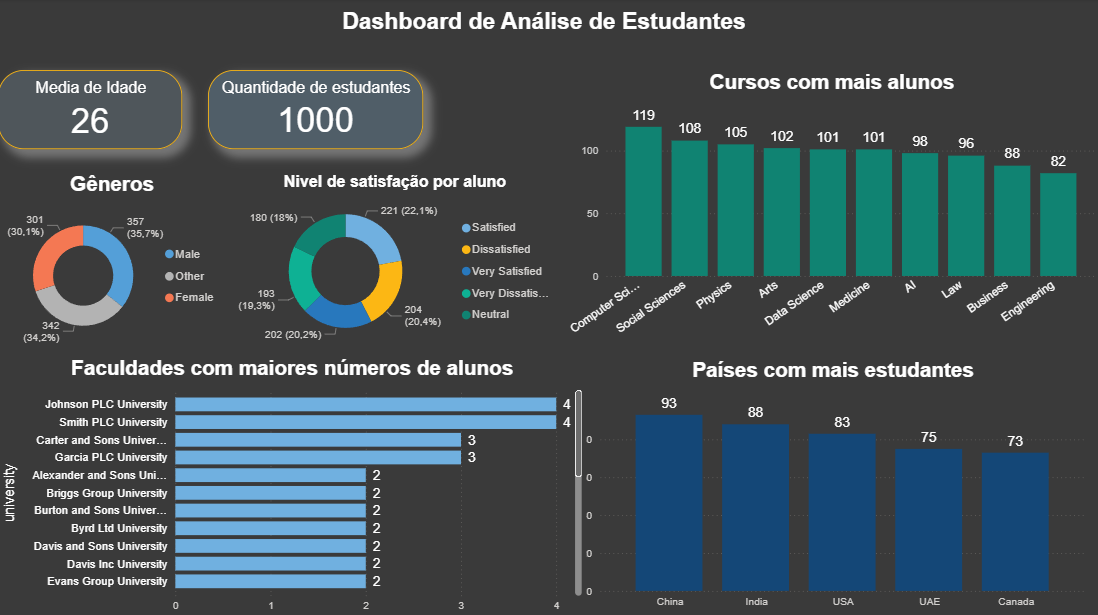

The page's visual inventory and layout, read from the dashboard file:
{"tool":"powerbi","page":{"name":"Página 1","canvas":[1280,720],"ordinal":0},"visuals":[{"type":"card","title":"Media de Idade","fields":{"Values":["students.MediadeIdade"]},"box":[0,82.4,214,92.2],"z":0},{"type":"donutChart","title":"Contagem de Gêneros","fields":{"Category":["students.gender"],"Y":["CountNonNull(students.gender)"]},"box":[0,200.9,253.2,213.7],"z":1000},{"type":"card","title":"Quantidade de estudantes","fields":{"Values":["CountNonNull(students.student_id)"]},"box":[243.9,82.5,249.7,91.8],"z":2000},{"type":"clusteredColumnChart","title":"Países com mais estudantes","fields":{"Category":["students.country"],"Y":["students.Estudantes por país"]},"box":[671.4,417,597,298.5],"z":3000},{"type":"barChart","title":"Faculdades com maiores números de alunos","fields":{"Category":["students.university"],"Y":["students.Faculdade"]},"box":[0,414.6,683.3,305.4],"z":4000},{"type":"columnChart","title":"Cursos com mais alunos","fields":{"Category":["students.field_of_study"],"Y":["students.Curso"]},"box":[657.3,82.4,622.4,332.2],"z":5000},{"type":"donutChart","title":"Nivel de satisfação por aluno","fields":{"Category":["students.overall_satisfaction"],"Y":["students.Nivel de satisfação"]},"box":[253.2,204.4,404.2,205.6],"z":6000},{"type":"card","title":"Dashboard de Análise de Estudantes","fields":{"Values":["students.Curso"]},"box":[0,10.5,1268.4,40.7],"z":6001}]}

Visuals, with their boxes in screenshot pixels (x1, y1, x2, y2), scaled from the page's 1280x720 canvas onto the 1098x615 screenshot:
"Media de Idade" card: [0,70,184,149]
"Contagem de Gêneros" donutChart: [0,172,217,354]
"Quantidade de estudantes" card: [209,70,423,149]
"Países com mais estudantes" clusteredColumnChart: [576,356,1088,611]
"Faculdades com maiores números de alunos" barChart: [0,354,586,614]
"Cursos com mais alunos" columnChart: [564,70,1097,354]
"Nivel de satisfação por aluno" donutChart: [217,175,564,350]
"Dashboard de Análise de Estudantes" card: [0,9,1088,44]
